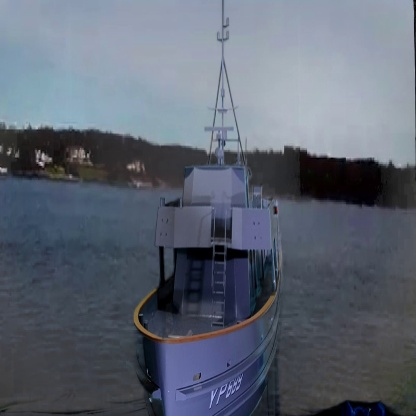YP689: (130, 0, 286, 416)
